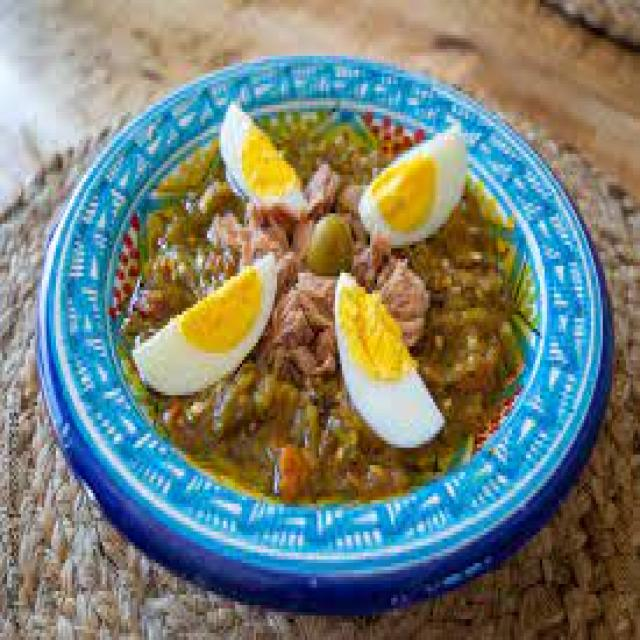Salade mechweya: (52, 47, 602, 588)
